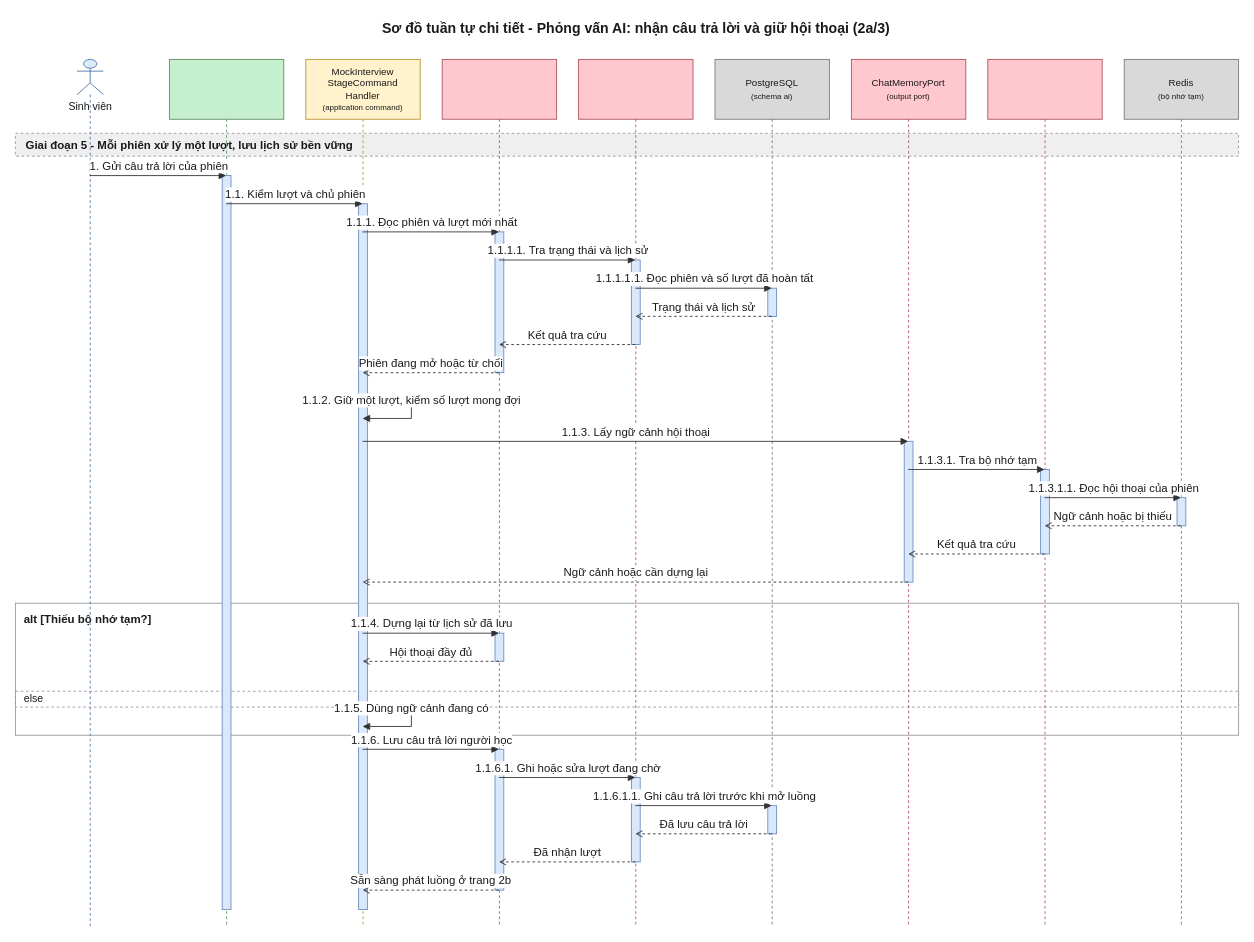
Image size: 1254x942. Some labels were removed from this diagram. The shapes that lost their labels are listed below. From the top down, each one's box as (x1, y1, x2, y2) in pixels, then its label:
(169, 59, 284, 927): MockInterview Controller (presentation SSE)
(441, 59, 557, 927): Interview Session Repository (output port F5)
(578, 59, 693, 927): JdbcInterview Session Repository (persistence adapter)
(987, 59, 1102, 927): RedisChat Adapter (infrastructure)
